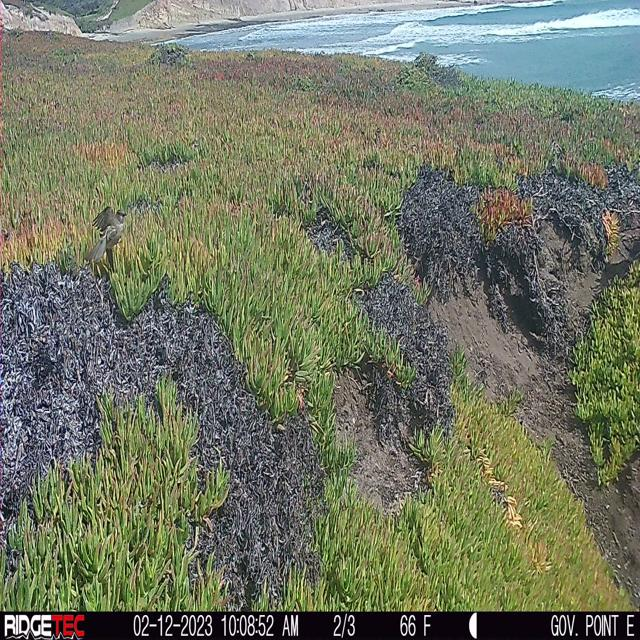bird: (84, 206, 128, 264)
